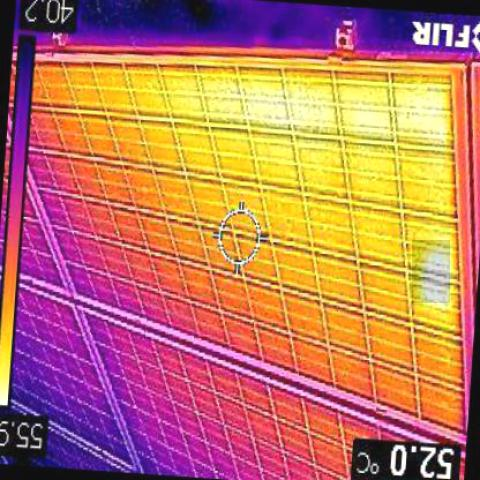fault: (412, 240, 450, 303)
